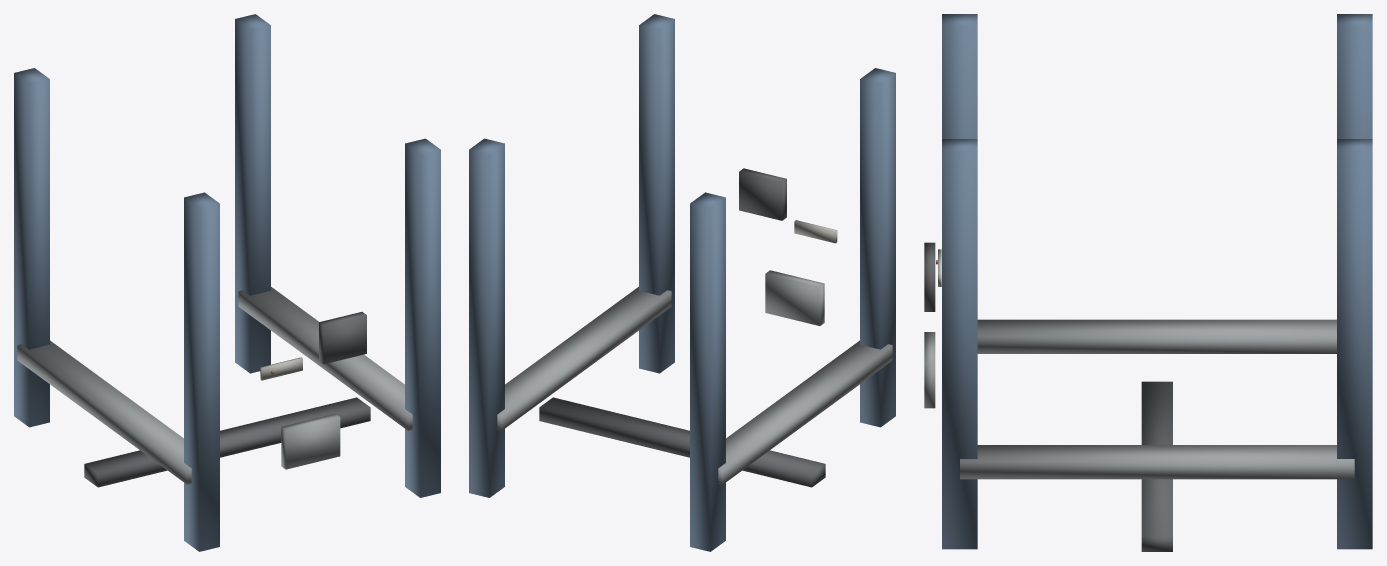
The model's file is four_post_car_lift__weathered.glb.
3 renders of one model, left to right at view 1: azimuth 30°, elevation 25°; view 2: azimuth 150°, elevation 25°; view 3: azimuth 270°, elevation 25°, orthographic. The views are drawn at different scales.
Visible parts, largest first — view 1: world; view 2: world; view 3: world.
Part boxes in pixels (x1=…): world: x1=14, y1=14, x2=440, y2=551; world: x1=469, y1=14, x2=895, y2=551; world: x1=924, y1=14, x2=1372, y2=551.
Size of the model in its own units: 1.85 by 2.23 by 2.27.
